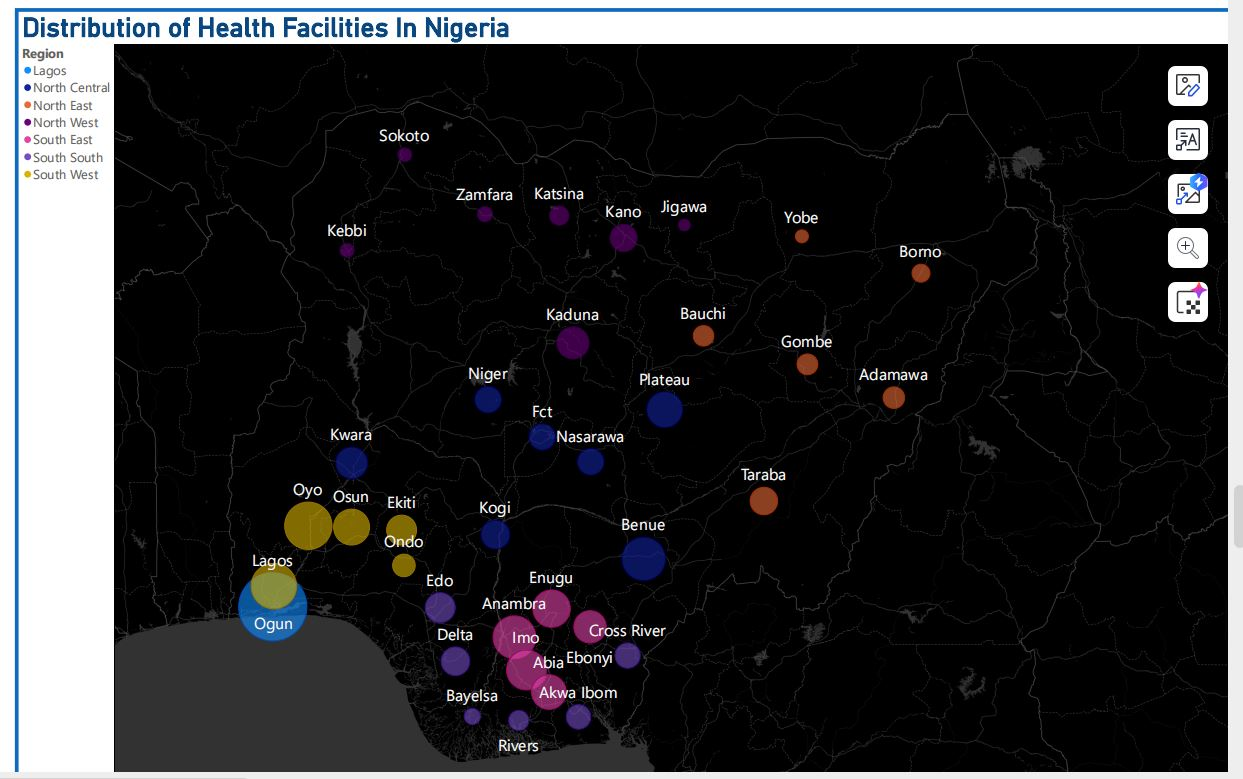

This screenshot's page, from the dashboard's own definition file:
{"tool":"powerbi","page":{"name":"Page 3","canvas":[3000,2500],"ordinal":2},"visuals":[{"type":"map","title":"Distribution of Health Facilities In Nigeria","fields":{"Y":["Avg(Nigerian Healthcare Facilities.latitude)"],"X":["Avg(Nigerian Healthcare Facilities.longitude)"],"Category":["Nigerian Healthcare Facilities.state","Nigerian Healthcare Facilities.country"],"Size":["CountNonNull(Nigerian Healthcare Facilities.OBJECTID)"],"Series":["Nigerian Healthcare Facilities.Region"]},"box":[5,5,3995,2260],"z":0},{"type":"textbox","box":[5,2265,2995,235],"z":1000}]}

Visuals, with their boxes on the page's 3000x2500 design canvas (x1, y1, x2, y2). These are canvas units, not pixel positions in the 1243x779 screenshot, which may show the page scaled, cropped or inside an application window:
"Distribution of Health Facilities In Nigeria" map: bbox=(5, 5, 4000, 2265)
textbox: bbox=(5, 2265, 3000, 2500)
